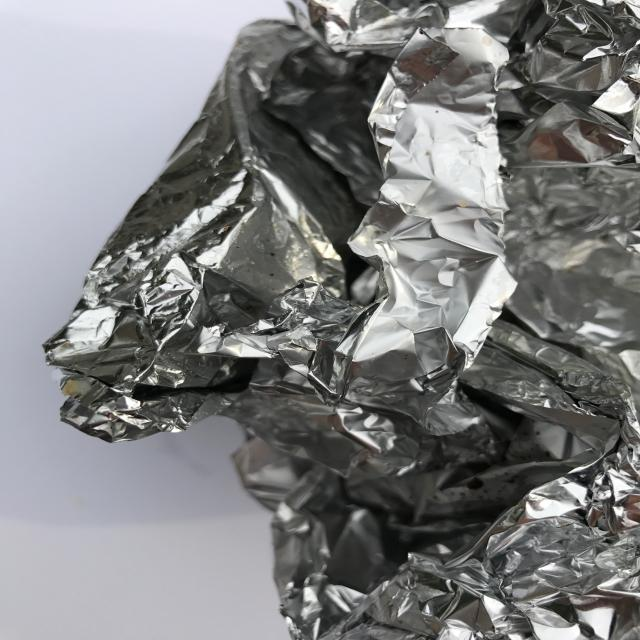metal: (42, 0, 638, 639)
